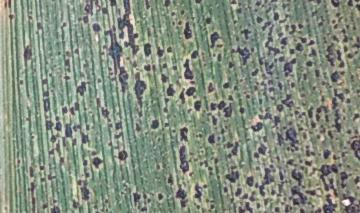tarspot: (103, 24, 130, 96), (115, 1, 141, 54), (118, 1, 143, 55), (132, 70, 149, 116), (318, 163, 337, 191), (232, 46, 254, 68), (282, 127, 301, 152), (325, 67, 347, 88), (174, 185, 191, 211), (258, 166, 273, 195), (340, 192, 360, 213), (176, 145, 189, 176), (260, 55, 278, 77), (27, 181, 39, 213), (180, 58, 196, 82), (76, 178, 92, 202), (263, 37, 282, 57), (315, 105, 332, 127), (321, 192, 338, 213), (347, 137, 360, 163), (192, 181, 208, 202), (324, 42, 336, 68), (290, 167, 305, 187), (279, 91, 295, 109), (178, 124, 193, 143), (21, 43, 34, 64), (338, 168, 351, 189), (75, 80, 91, 97), (97, 106, 114, 122), (283, 57, 297, 76), (333, 86, 344, 110), (78, 130, 93, 147), (207, 31, 222, 48), (224, 170, 241, 185), (332, 107, 343, 130), (249, 120, 267, 134), (114, 147, 130, 162), (142, 40, 154, 60), (192, 96, 204, 116), (131, 188, 143, 208), (164, 83, 178, 100), (349, 140, 360, 161), (183, 19, 193, 42), (41, 97, 53, 116), (274, 167, 288, 183), (321, 146, 334, 163), (304, 141, 317, 158), (90, 157, 105, 171), (33, 22, 47, 37), (238, 25, 252, 40), (223, 101, 234, 120), (58, 103, 71, 119), (164, 170, 176, 187), (204, 79, 216, 96), (279, 35, 291, 52), (336, 47, 346, 67), (272, 113, 283, 131), (68, 196, 82, 210), (226, 142, 240, 156), (178, 85, 187, 106), (188, 47, 202, 60), (291, 39, 305, 52), (149, 117, 161, 132), (83, 1, 95, 16), (305, 102, 314, 122), (43, 118, 54, 134), (276, 77, 287, 93), (161, 97, 171, 114), (256, 110, 273, 120), (61, 56, 73, 70), (244, 175, 256, 189), (308, 46, 320, 60), (92, 21, 103, 36), (92, 75, 107, 86), (216, 97, 227, 112), (351, 108, 360, 126), (26, 164, 36, 180), (154, 44, 164, 60), (203, 13, 213, 29), (282, 201, 295, 213), (303, 156, 315, 169), (153, 160, 164, 174), (159, 71, 170, 85), (208, 114, 219, 128), (305, 187, 319, 198), (326, 129, 337, 143), (286, 78, 297, 92), (271, 115, 282, 129), (351, 35, 360, 52), (275, 132, 285, 147), (258, 140, 267, 156), (284, 155, 296, 167), (209, 100, 218, 116), (92, 96, 105, 107), (46, 172, 60, 182), (220, 183, 230, 197), (207, 130, 215, 147), (327, 1, 342, 10), (142, 1, 153, 13), (221, 79, 232, 91), (296, 123, 307, 135), (330, 33, 341, 45), (155, 190, 165, 203), (115, 119, 125, 132), (237, 103, 247, 116), (313, 65, 321, 81), (207, 164, 215, 180), (186, 84, 195, 98), (215, 50, 224, 64), (261, 195, 270, 209), (58, 20, 69, 31), (82, 169, 93, 180), (225, 91, 236, 102), (295, 20, 306, 31), (303, 57, 314, 68), (217, 126, 228, 137), (153, 134, 164, 145), (48, 133, 60, 143), (55, 142, 63, 157), (352, 173, 360, 188), (168, 8, 178, 20), (236, 75, 246, 87), (132, 120, 141, 133), (249, 67, 262, 76), (234, 185, 243, 198), (296, 155, 305, 168), (209, 155, 222, 164), (49, 205, 63, 213), (160, 1, 174, 9), (232, 7, 246, 15), (71, 45, 81, 56), (14, 156, 24, 167), (63, 47, 73, 58), (57, 156, 67, 167), (194, 130, 204, 141), (270, 10, 280, 21), (306, 36, 317, 46), (168, 18, 178, 29), (295, 109, 305, 120), (39, 77, 51, 86), (40, 200, 49, 212), (166, 43, 175, 55), (100, 4, 109, 16), (226, 59, 235, 71), (313, 21, 325, 30), (296, 33, 308, 42), (283, 22, 292, 34), (82, 13, 90, 26), (274, 151, 282, 164), (62, 73, 72, 83), (142, 63, 152, 73), (272, 203, 282, 213), (300, 71, 310, 81), (333, 10, 343, 20), (6, 13, 17, 22), (80, 158, 91, 167), (46, 147, 55, 158), (100, 196, 111, 205), (289, 21, 298, 32), (228, 162, 239, 171), (348, 72, 357, 83), (353, 125, 360, 139), (257, 95, 264, 109), (68, 105, 76, 117), (234, 205, 246, 213), (296, 205, 308, 213), (345, 126, 353, 138), (306, 1, 325, 6), (112, 131, 125, 138), (83, 122, 93, 131), (254, 14, 264, 23), (320, 94, 329, 104), (232, 83, 241, 93), (266, 77, 275, 87), (41, 89, 52, 97), (208, 201, 216, 212), (268, 187, 276, 198), (308, 84, 319, 92), (252, 1, 263, 9), (197, 158, 205, 169), (339, 149, 347, 160), (225, 136, 232, 148), (70, 138, 79, 147), (261, 22, 270, 31), (250, 84, 259, 93), (38, 163, 46, 173), (105, 139, 113, 149), (163, 120, 171, 130), (108, 1, 118, 9), (242, 192, 250, 202), (268, 87, 278, 95), (350, 23, 358, 33), (50, 197, 61, 204), (17, 77, 25, 86), (178, 8, 187, 16), (251, 152, 259, 161), (314, 132, 323, 140), (354, 1, 360, 13), (343, 43, 349, 55), (346, 95, 352, 107), (191, 1, 205, 6), (340, 27, 347, 37), (330, 16, 337, 26), (89, 149, 100, 155), (76, 14, 82, 25), (268, 1, 281, 6), (309, 201, 317, 209), (243, 92, 251, 100), (25, 14, 34, 21), (29, 132, 38, 139), (55, 48, 62, 57), (346, 1, 353, 10), (342, 37, 349, 46), (298, 92, 307, 99), (172, 63, 178, 73), (255, 201, 261, 211), (354, 87, 360, 97), (254, 164, 262, 171), (232, 17, 238, 26), (227, 1, 240, 5), (142, 192, 148, 200), (106, 123, 117, 127), (354, 1, 360, 5)
